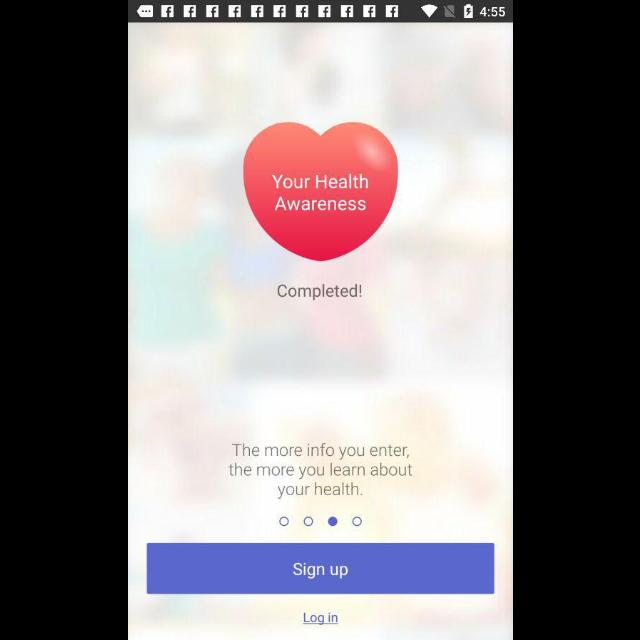image: (242, 122, 398, 262)
pageindicator: (278, 516, 362, 528)
text: (228, 442, 412, 500), (276, 284, 362, 302), (302, 612, 338, 626)
textbutton: (146, 543, 494, 595)
uppertaskbar: (128, 1, 512, 23)
